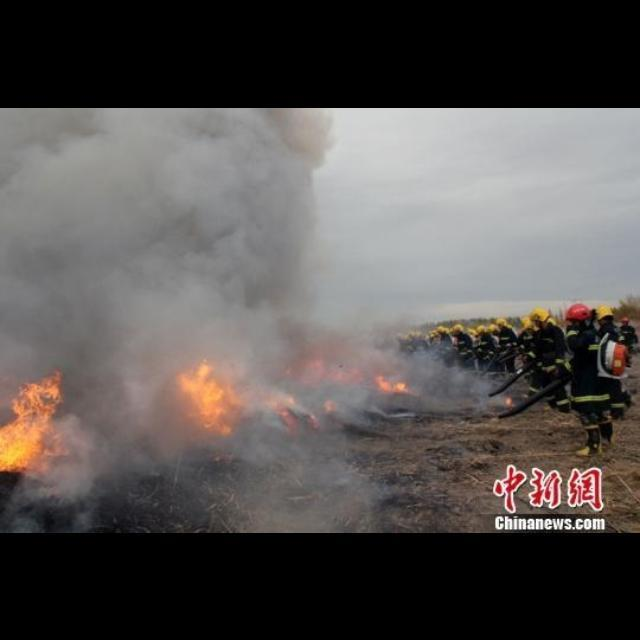Fire: (1, 369, 66, 473), (173, 359, 244, 436), (374, 372, 410, 393)
Smoke: (2, 109, 524, 532)
